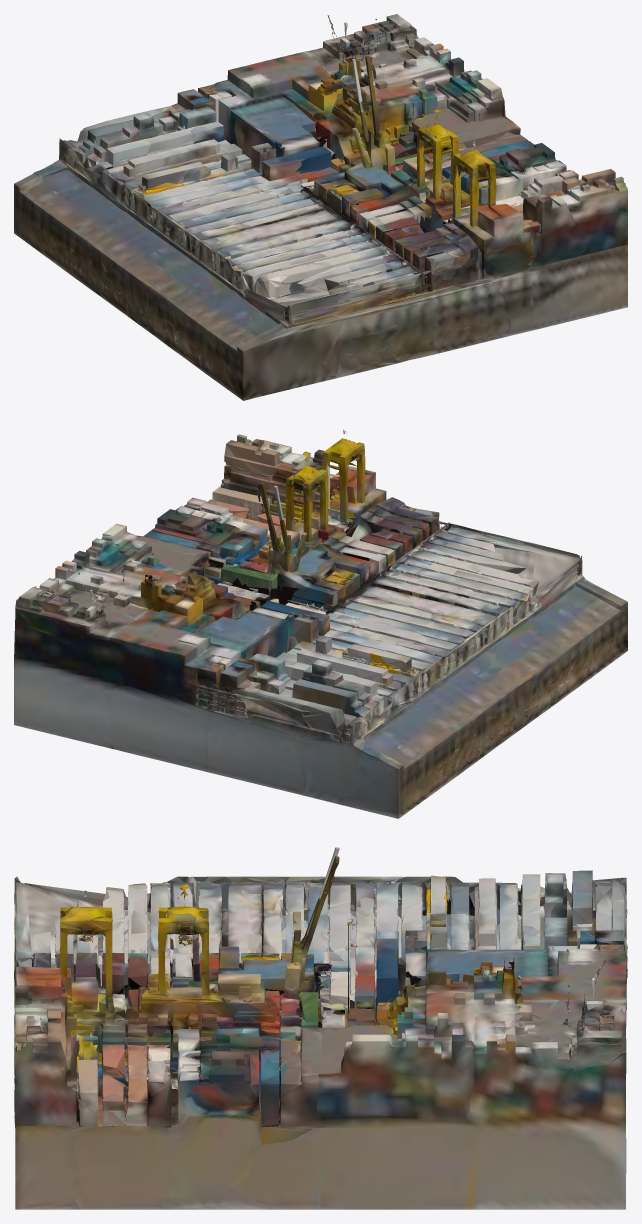
Rendered from construction-07.glb.
The picture shows the model from 3 angles, top to bottom: view 1: azimuth 30°, elevation 25°; view 2: azimuth 150°, elevation 25°; view 3: azimuth 270°, elevation 25°; orthographic projection. The views are drawn at different scales.
Visible parts, largest first — view 1: tmpobfrb6j0.obj; view 2: tmpobfrb6j0.obj; view 3: tmpobfrb6j0.obj.
Boxes of the visible parts, left/top/right/bottom form: tmpobfrb6j0.obj: left=14, top=14, right=627, bottom=400; tmpobfrb6j0.obj: left=14, top=429, right=627, bottom=818; tmpobfrb6j0.obj: left=14, top=847, right=627, bottom=1209.
Bounding box in the file's own units: 1.31 × 0.6378 × 1.35.
Materials: 1 (1 with a texture image).
